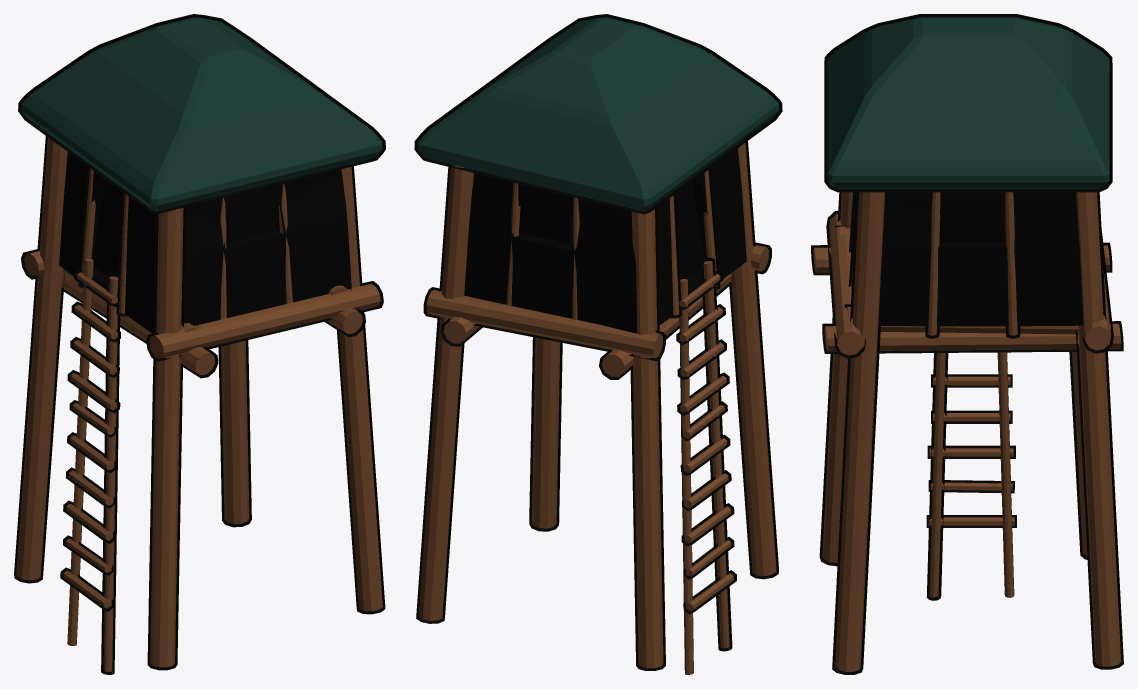
File: Tower_1_v1.fbx
The picture shows the model from 3 angles, left to right: view 1: azimuth 30°, elevation 25°; view 2: azimuth 150°, elevation 25°; view 3: azimuth 270°, elevation 25°; orthographic projection. The views are drawn at different scales.
Visible parts, largest first — view 1: Turm_1_v1, Turm_1_v1_outliner; view 2: Turm_1_v1, Turm_1_v1_outliner; view 3: Turm_1_v1, Turm_1_v1_outliner.
Part boxes in pixels (x1,y1,x2,y2): Turm_1_v1: (16,17,382,671); Turm_1_v1_outliner: (14,14,385,674); Turm_1_v1: (417,17,779,674); Turm_1_v1_outliner: (414,14,782,674); Turm_1_v1: (813,17,1121,671); Turm_1_v1_outliner: (811,14,1123,674).
Size of what is drawn, in the model's own units: 48.71 by 111 by 50.09.
